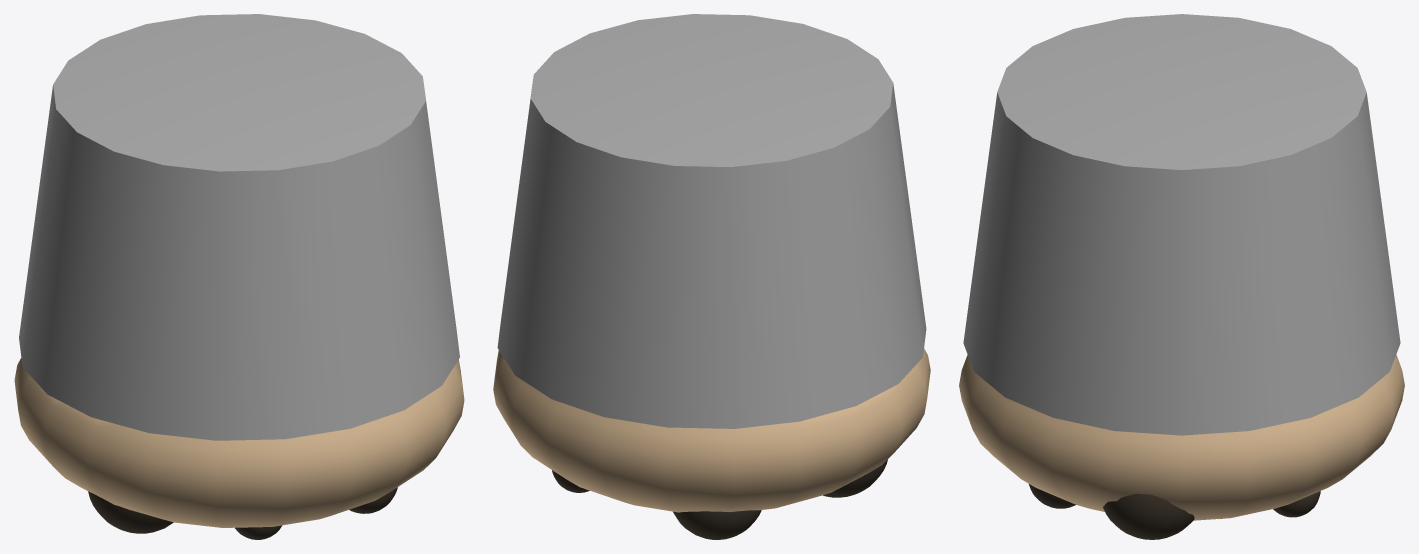
Rendered from muffin.fbx.
3 renders of one model, left to right at view 1: azimuth 30°, elevation 25°; view 2: azimuth 150°, elevation 25°; view 3: azimuth 270°, elevation 25°, orthographic. The views are drawn at different scales.
Visible parts, largest first — view 1: pCone1, pSphere2, pasted__pasted__pSphere3; view 2: pCone1, pSphere2, pasted__pasted__pasted__pSphere3, pasted__pasted__pSphere3; view 3: pCone1, pSphere2, pasted__pSphere3, pSphere3.
Boxes of the visible parts, left/top/right/bottom form: pCone1: left=19, top=14, right=459, bottom=440; pSphere2: left=14, top=358, right=464, bottom=527; pasted__pasted__pSphere3: left=88, top=491, right=173, bottom=533; pCone1: left=497, top=14, right=926, bottom=428; pSphere2: left=493, top=348, right=930, bottom=512; pasted__pasted__pasted__pSphere3: left=673, top=510, right=761, bottom=539; pasted__pasted__pSphere3: left=823, top=459, right=887, bottom=497; pCone1: left=963, top=14, right=1400, bottom=435; pSphere2: left=959, top=355, right=1404, bottom=520; pasted__pSphere3: left=1103, top=494, right=1194, bottom=539; pSphere3: left=1273, top=491, right=1320, bottom=517.
Size of the model in its own units: 1.45 by 1.49 by 1.45.
Materials: 3 (2 with a texture image).
